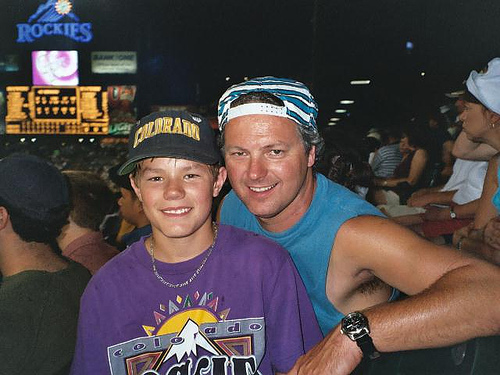without_mask: (223, 116, 319, 215), (129, 154, 228, 237), (112, 177, 150, 232), (459, 96, 499, 146), (399, 125, 424, 155)
